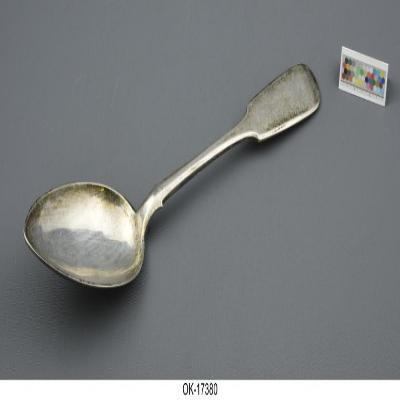dpi: (23, 63, 322, 291)
